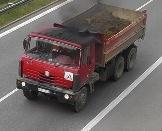Truck: (15, 3, 147, 112)
